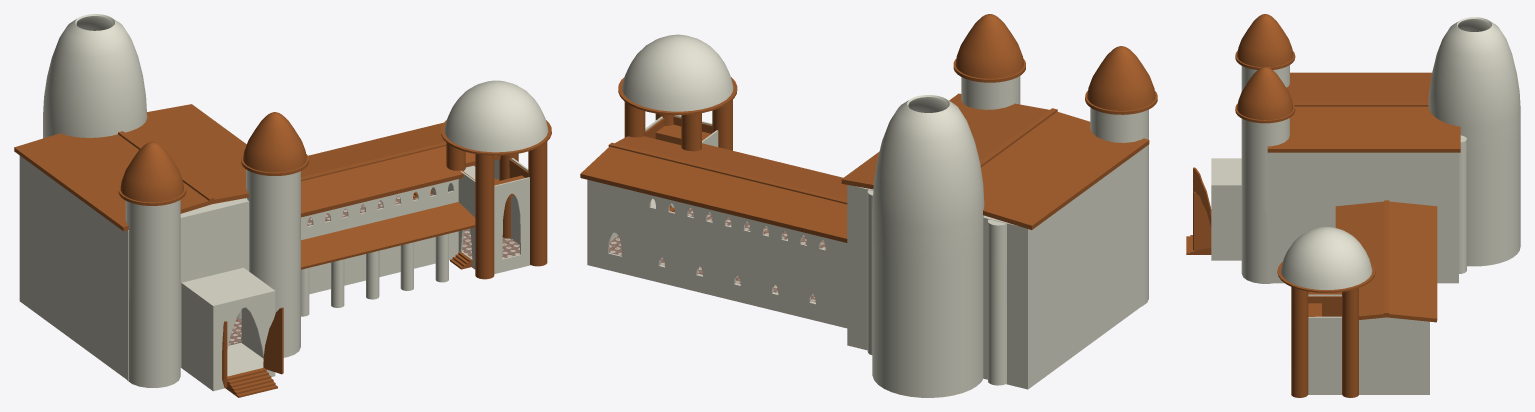
File: blockingv3.glb
3 views of the same model, side by side, from view 1: azimuth 30°, elevation 25°; view 2: azimuth 150°, elevation 25°; view 3: azimuth 270°, elevation 25° (orthographic). The views are drawn at different scales.
Visible parts, largest first — view 1: Walls-col, WallCandlePlace-col, RoofMain, WallSunAltar-col, WallMain-col, Roof, WallFrontRoom-col, BellRoof, RoofCandlePlace, SubRof, FrontColumns, Column-col (+9 smaller); view 2: WallSunAltar-col, Walls-col, WallMain-col, Roof, RoofMain, BellRoof, RoofCandlePlace, Column-col.001, WallCandlePlace-col, BellColumns, RoofDetail, BellRoom-col (+4 smaller); view 3: WallSunAltar-col, Walls-col, RoofMain, Roof, WallMain-col, WallCandlePlace-col, BellRoof, RoofCandlePlace, WallFrontRoom-col, BellColumnsLong, FrontColumns, OpenDoor-col (+8 smaller).
Boxes of the visible parts, box(x1,y1,x2,y2) form: Walls-col: box(19, 155, 249, 380); WallCandlePlace-col: box(125, 169, 300, 387); RoofMain: box(14, 104, 248, 231); WallSunAltar-col: box(43, 14, 147, 138); WallMain-col: box(301, 158, 530, 294); Roof: box(301, 122, 500, 217); WallFrontRoom-col: box(181, 267, 275, 380); BellRoof: box(444, 80, 548, 152); RoofCandlePlace: box(120, 112, 306, 202); SubRof: box(301, 202, 475, 269); FrontColumns: box(475, 178, 547, 279); Column-col: box(301, 233, 448, 316); WallSunAltar-col: box(872, 95, 984, 397); Walls-col: box(847, 148, 1144, 389); WallMain-col: box(587, 115, 847, 328); Roof: box(580, 136, 847, 242); RoofMain: box(841, 93, 1149, 229); BellRoof: box(622, 34, 733, 111); RoofCandlePlace: box(955, 14, 1155, 110); Column-col.001: box(867, 190, 1006, 385); WallCandlePlace-col: box(961, 76, 1148, 306); BellColumns: box(655, 100, 732, 151); RoofDetail: box(608, 142, 847, 204); BellRoom-col: box(645, 116, 714, 144); WallSunAltar-col: box(1428, 17, 1520, 266); Walls-col: box(1267, 151, 1458, 283); RoofMain: box(1267, 72, 1460, 152); Roof: box(1335, 201, 1437, 322); WallMain-col: box(1308, 294, 1429, 394); WallCandlePlace-col: box(1241, 65, 1289, 283); BellRoof: box(1280, 227, 1372, 289); RoofCandlePlace: box(1237, 14, 1293, 119); WallFrontRoom-col: box(1211, 158, 1241, 251); BellColumnsLong: box(1342, 288, 1358, 397); FrontColumns: box(1291, 319, 1308, 397); OpenDoor-col: box(1193, 167, 1211, 250).
Bounding box in the file's own units: 69.36 × 36.76 × 49.85.
Materials: 3 (1 with a texture image).
